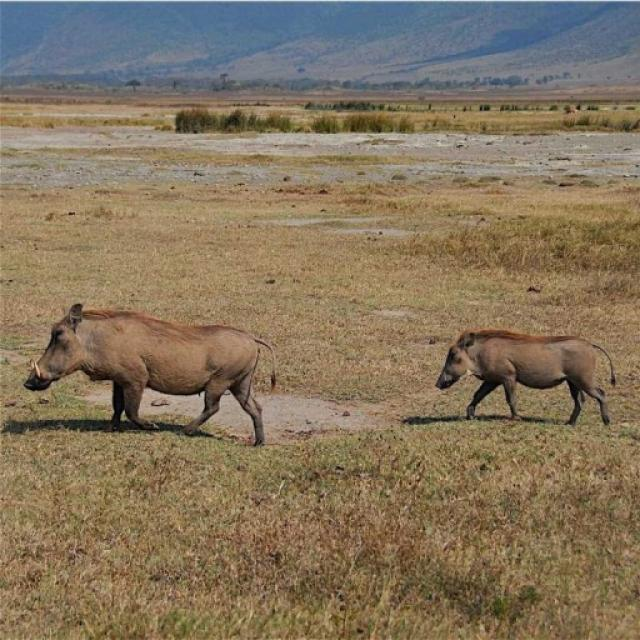pig: (7, 252, 287, 462), (402, 302, 616, 457)
